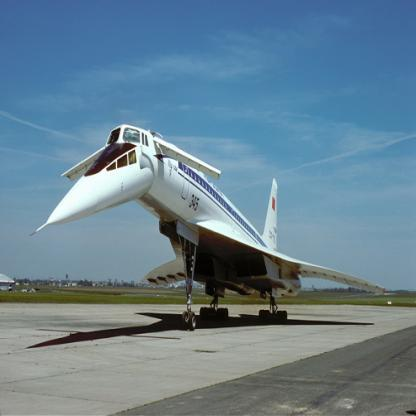CIV_Plane: (29, 119, 388, 328)
